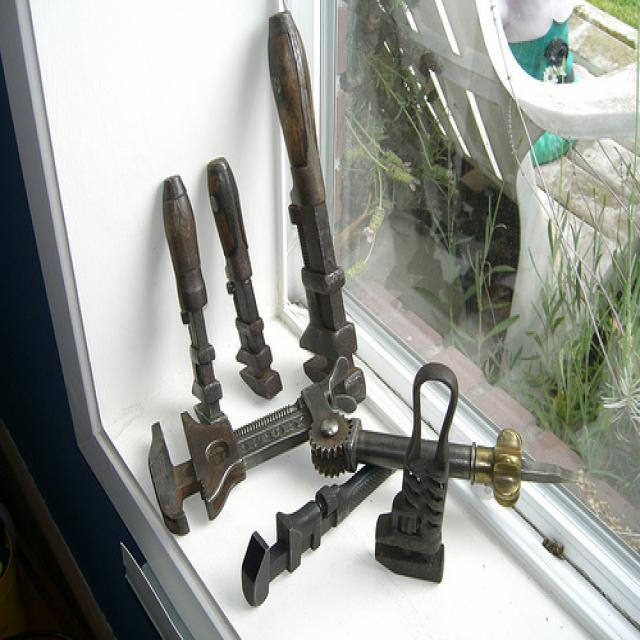wrench: (266, 6, 368, 405), (141, 391, 334, 534), (237, 473, 391, 612), (203, 155, 280, 403), (154, 170, 224, 404)
